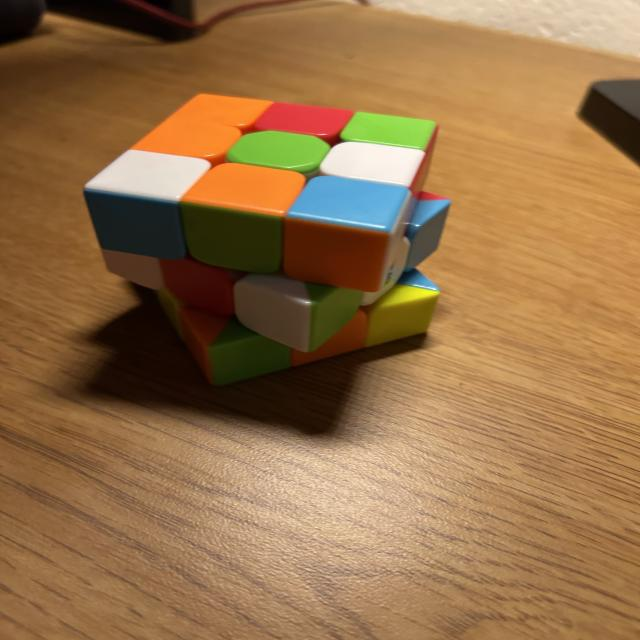Rubiks Cube: (84, 93, 451, 386)
